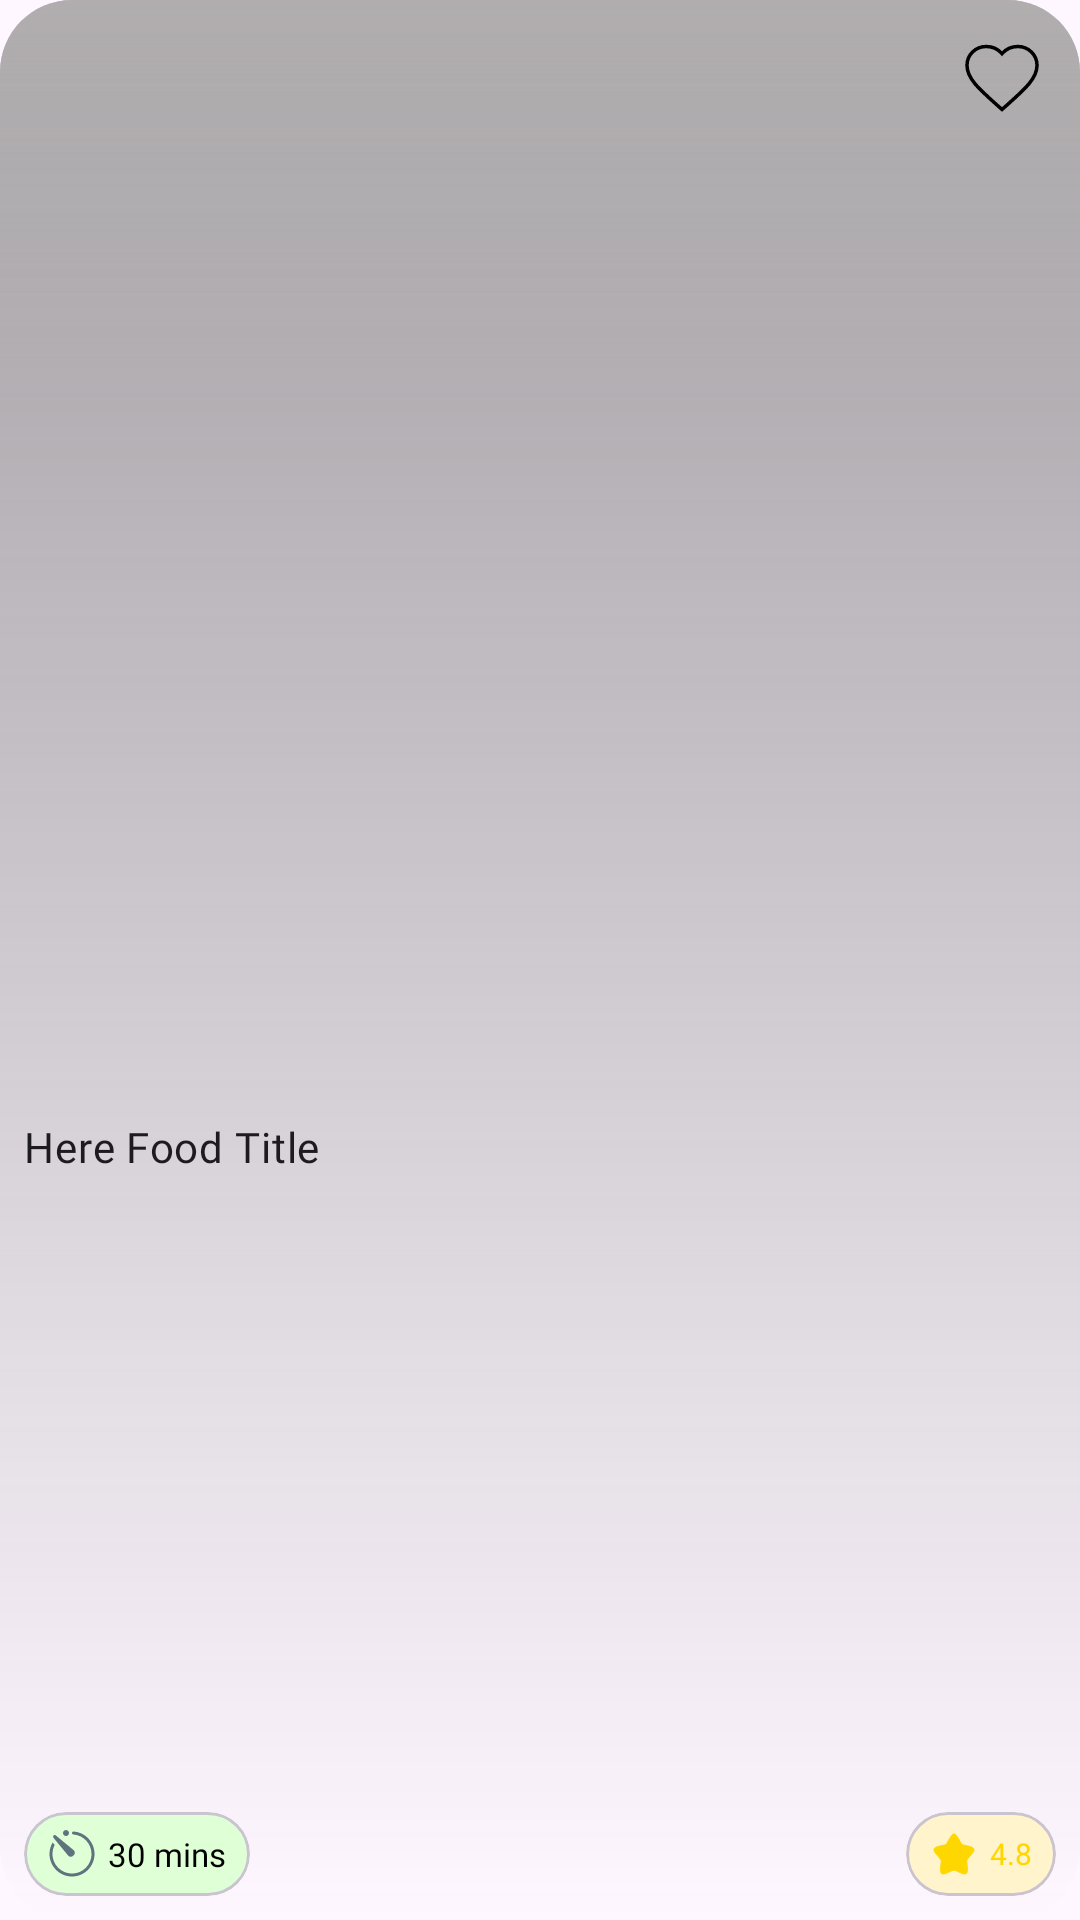

Screen size 1080 × 1920. Icon name, then its center in pixels as (x=x, y=y):
like icon: (x=1002, y=78)
star: (x=954, y=1854)
timer: (x=72, y=1853)
